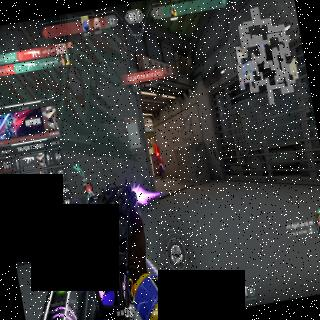ENEMY-BODY: (154, 148, 166, 182)
